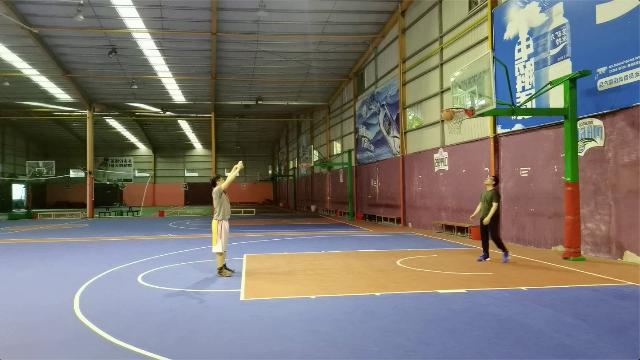basket: (440, 106, 466, 135)
goal: (442, 106, 454, 120)
